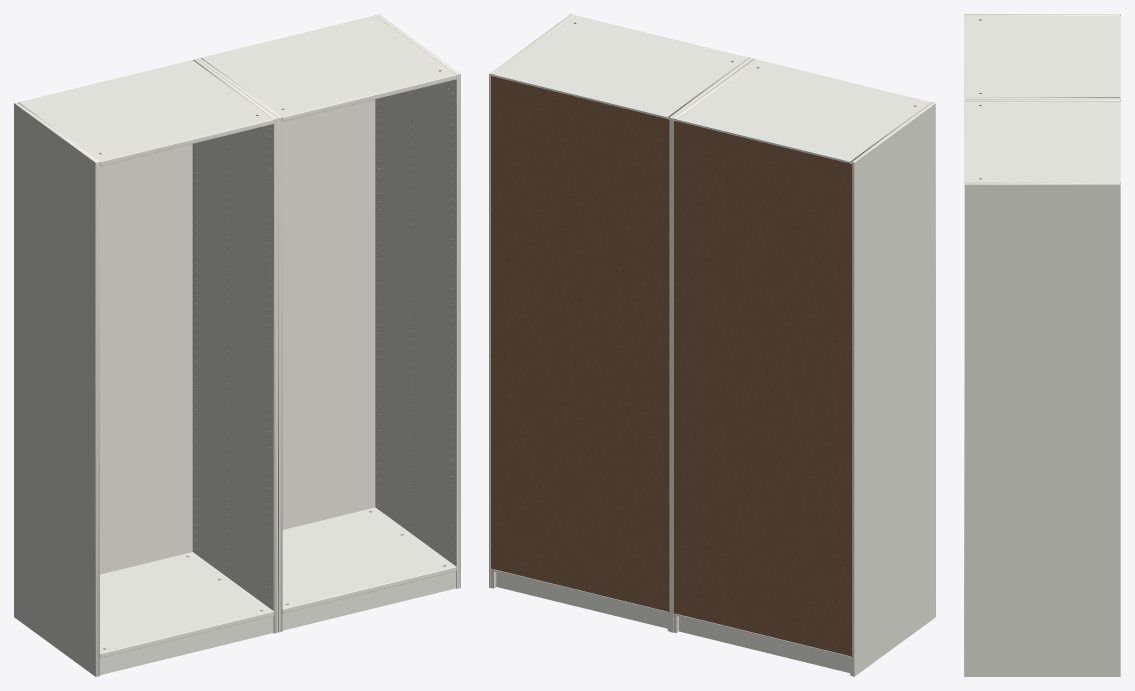
The model's file is 20 - PAX 2 wardrobe frames - white 150x58x201 cm.glb.
The picture shows the model from 3 angles, left to right: view 1: azimuth 30°, elevation 25°; view 2: azimuth 150°, elevation 25°; view 3: azimuth 270°, elevation 25°; orthographic projection. The views are drawn at different scales.
Bounding box in the file's own units: 1.5 × 2.01 × 0.58.
1 material, 1 textured.
